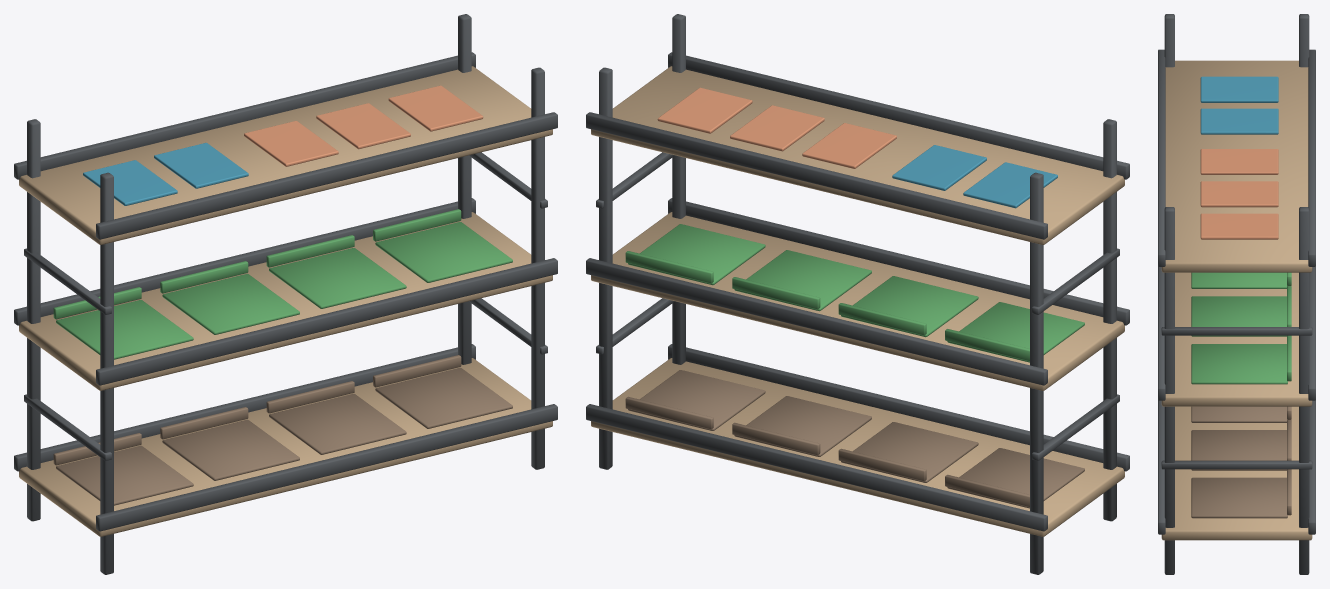
File: storage_shelf.glb
3 views of the same model, side by side, from view 1: azimuth 30°, elevation 25°; view 2: azimuth 150°, elevation 25°; view 3: azimuth 270°, elevation 25° (orthographic). The views are drawn at different scales.
Parts seen in each view (by area): view 1: SM_Storage_Shelf_Trowel_Slot.008; view 2: SM_Storage_Shelf_Trowel_Slot.008; view 3: SM_Storage_Shelf_Trowel_Slot.008.
Boxes of the visible parts, x1,y1,x2,y2 form: SM_Storage_Shelf_Trowel_Slot.008: (14,14,557,574); SM_Storage_Shelf_Trowel_Slot.008: (586,14,1129,574); SM_Storage_Shelf_Trowel_Slot.008: (1158,14,1315,574).
Bounding box in the file's own units: 2.1 × 1.74 × 0.6816.
